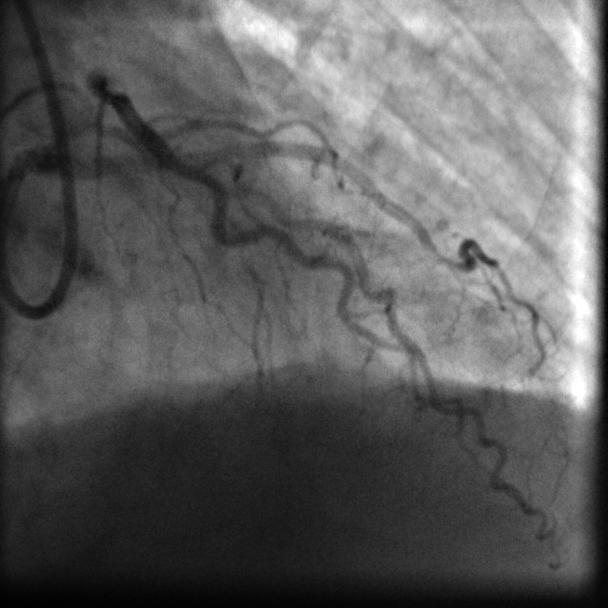Stenosis: (92, 69, 123, 111)
